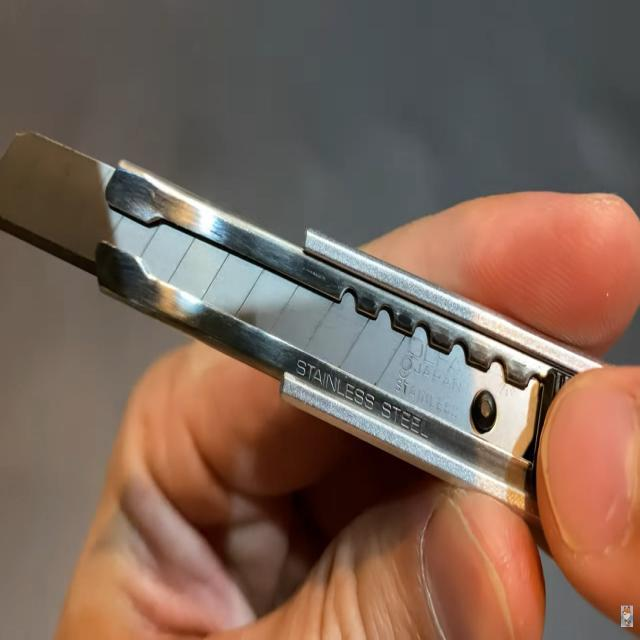cutter: (3, 68, 640, 560)
